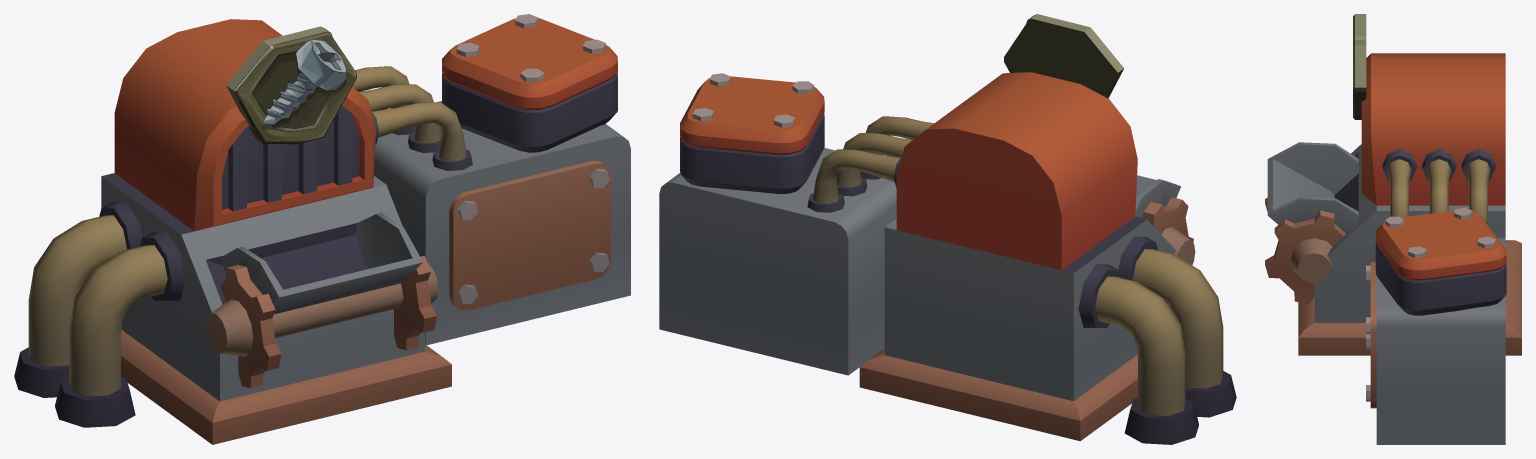
The model's file is ConvectorTerminal.fbx.
3 renders of one model, left to right at view 1: azimuth 30°, elevation 25°; view 2: azimuth 150°, elevation 25°; view 3: azimuth 270°, elevation 25°, orthographic. The views are drawn at different scales.
Parts seen in each view (by area): view 1: ConvectorTerminal, door; view 2: ConvectorTerminal, door; view 3: ConvectorTerminal, door.
Part boxes in pixels (<box>): ConvectorTerminal: <box>14,14,630,444</box>; door: <box>206,212,438,388</box>; ConvectorTerminal: <box>659,14,1236,444</box>; door: <box>1135,175,1195,264</box>; ConvectorTerminal: <box>1298,14,1521,444</box>; door: <box>1265,142,1358,304</box>.
Size of the model in its own units: 552 by 327 by 269.
